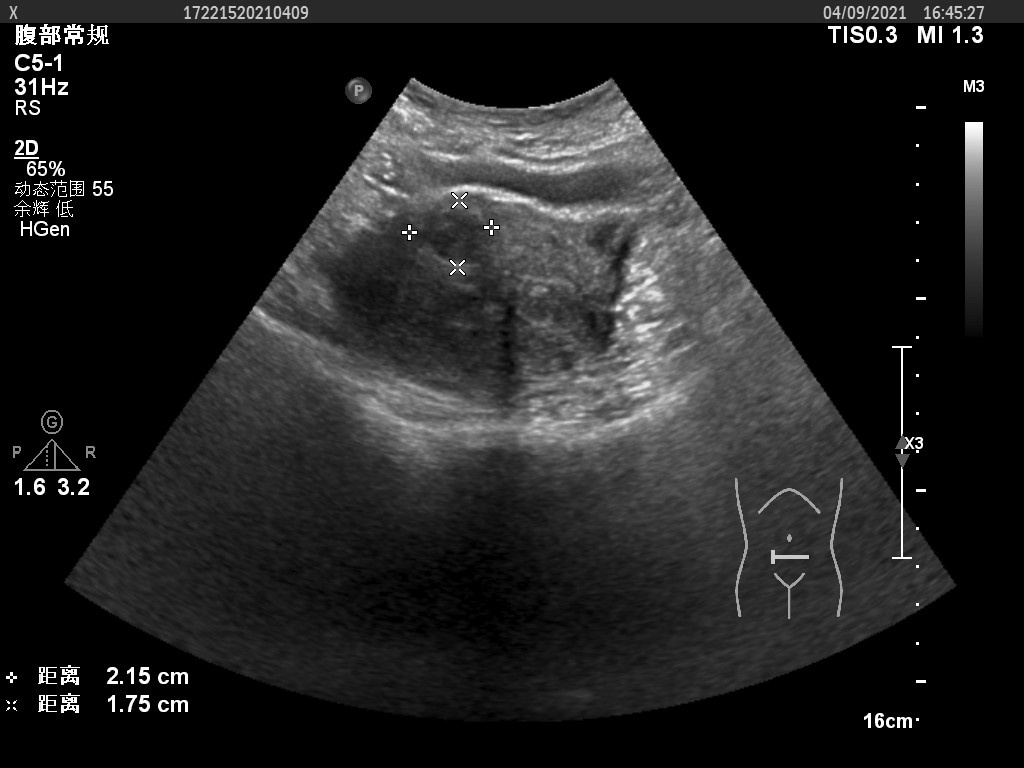肌瘤: (416, 210, 493, 263)
